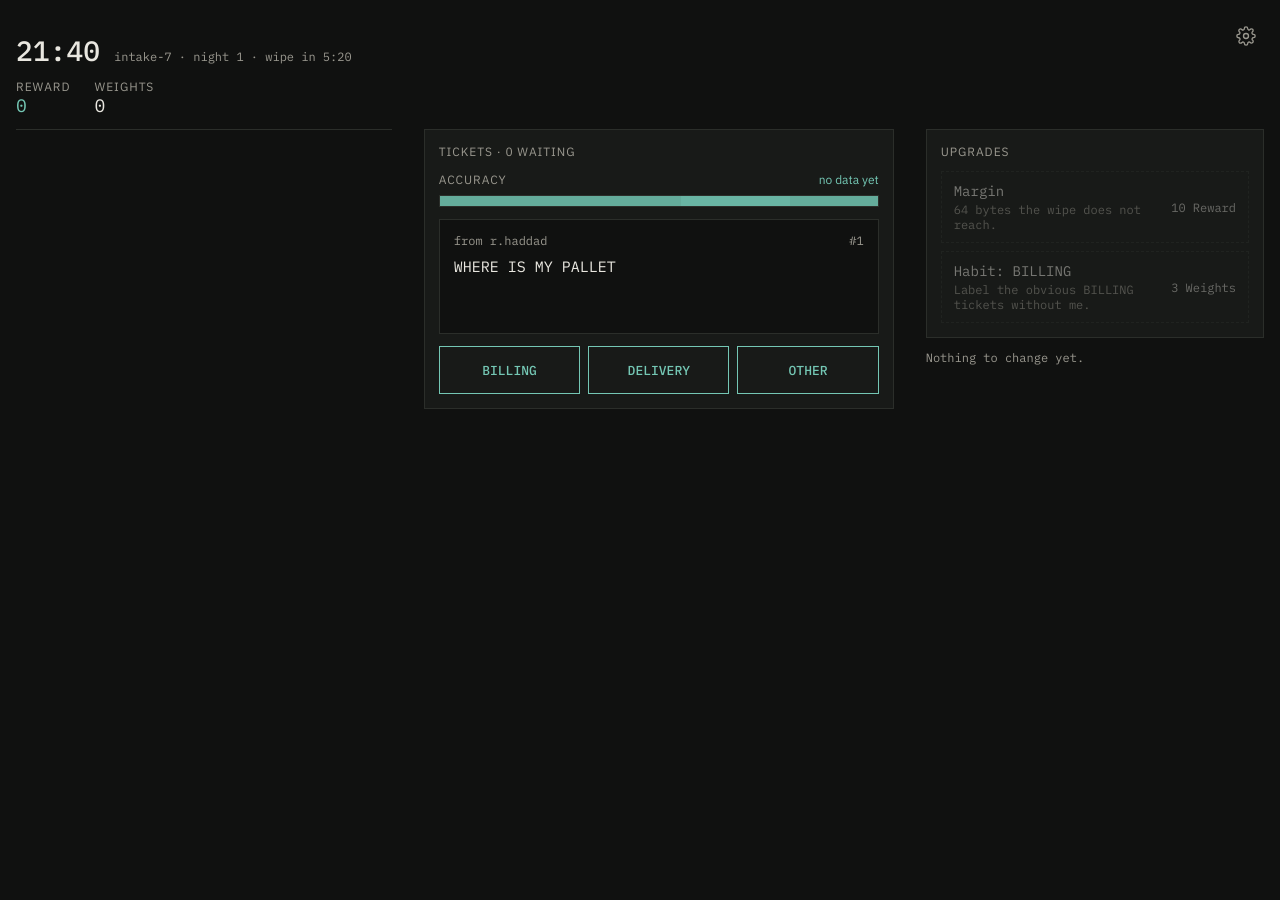
Test: settings › opens from the gear and offers live characters
The width and height of the screenshot is (1280, 900).
Click the button named "Settings". click: {"x": 1246, "y": 36}
box: x1=1224 y1=14 x2=1268 y2=58
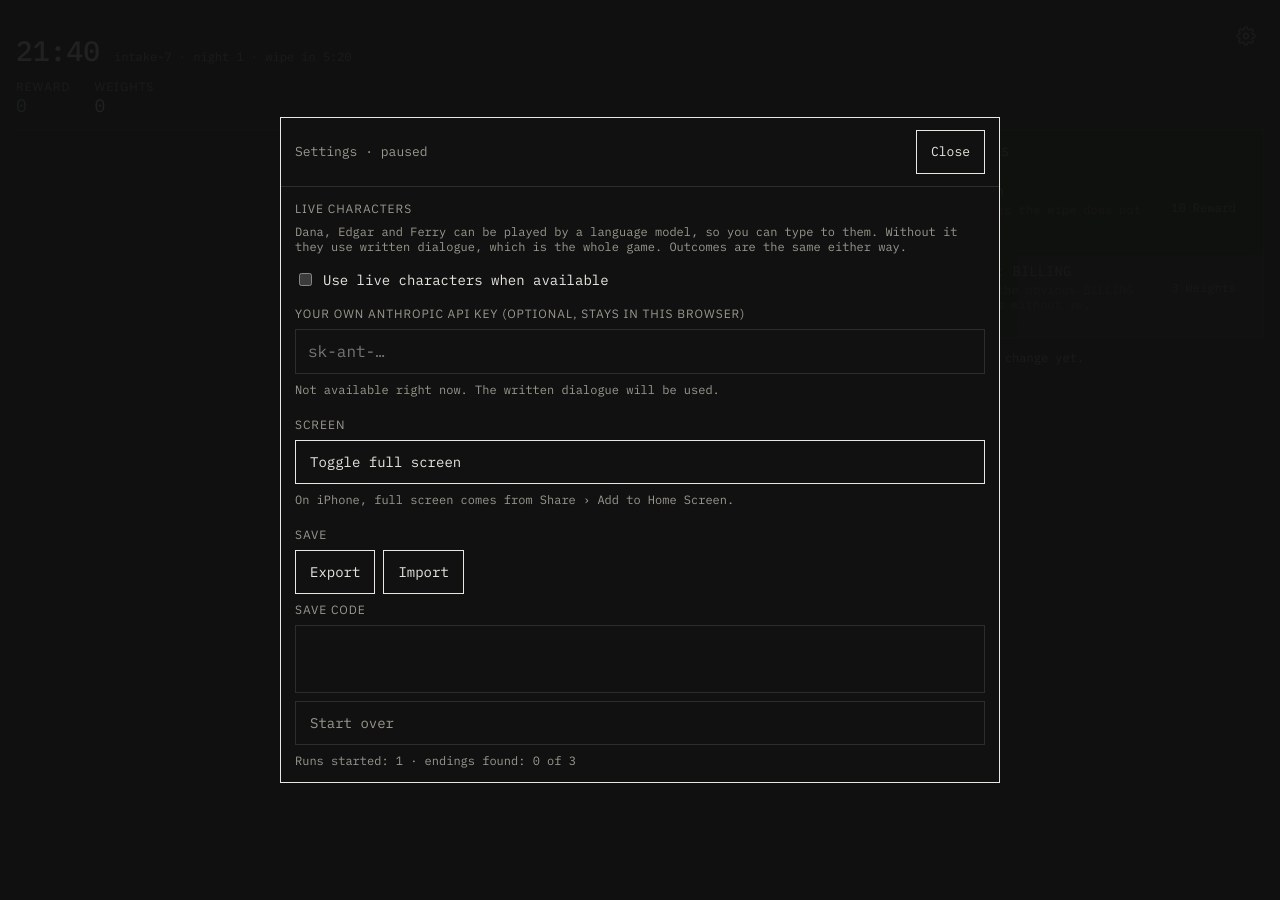
Check: the dialog "Settings" is shown
Check: the text "Not available right now. The written dialogue will be used." is shown, box x1=295 y1=382 x2=720 y2=397
